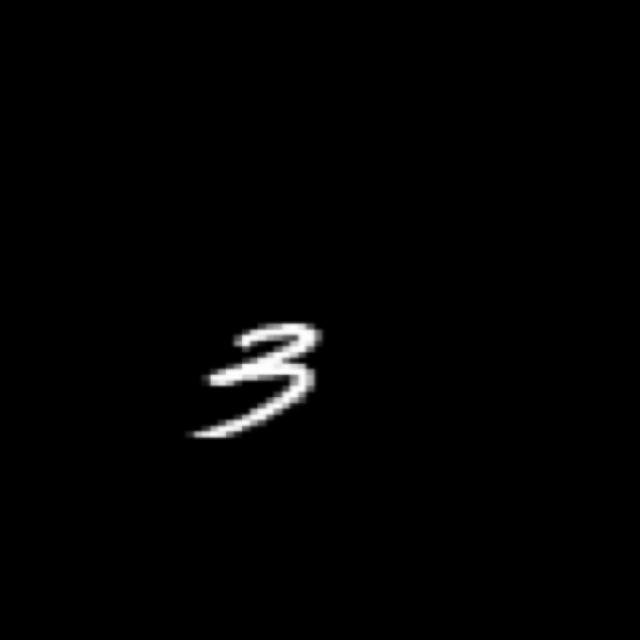three -3-: (185, 316, 339, 451)
